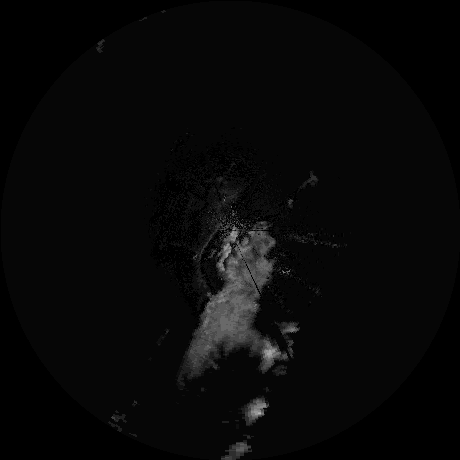frontgust: (195, 223, 220, 294)
